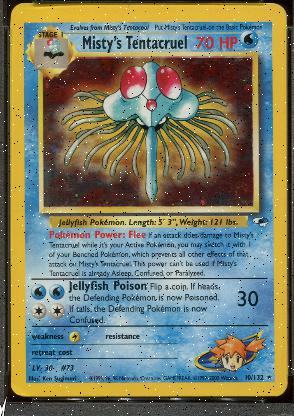Card: (6, 0, 290, 400)
